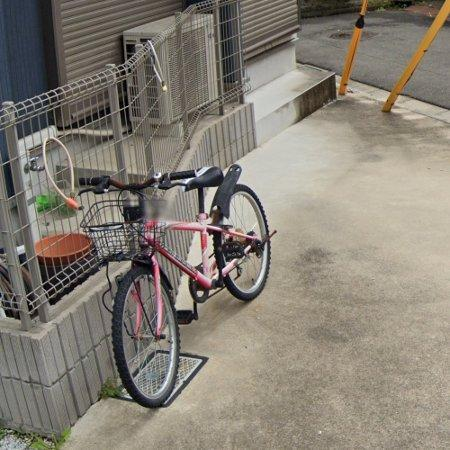bicycles: (78, 164, 276, 408)
